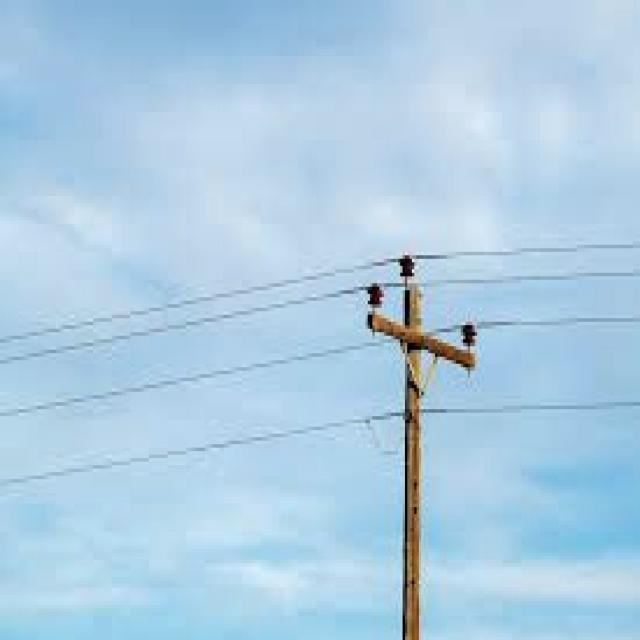crossarm: (365, 283, 477, 374)
pole: (405, 255, 424, 640)
wire: (0, 313, 640, 422), (0, 241, 639, 349), (2, 393, 640, 487)
